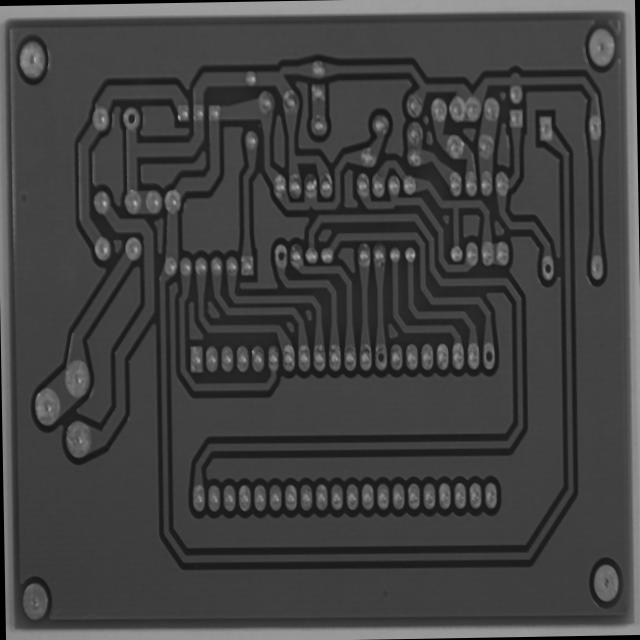missing_hole: (478, 340, 499, 372), (537, 254, 558, 280), (122, 103, 140, 132), (273, 242, 289, 269), (373, 343, 389, 370)
